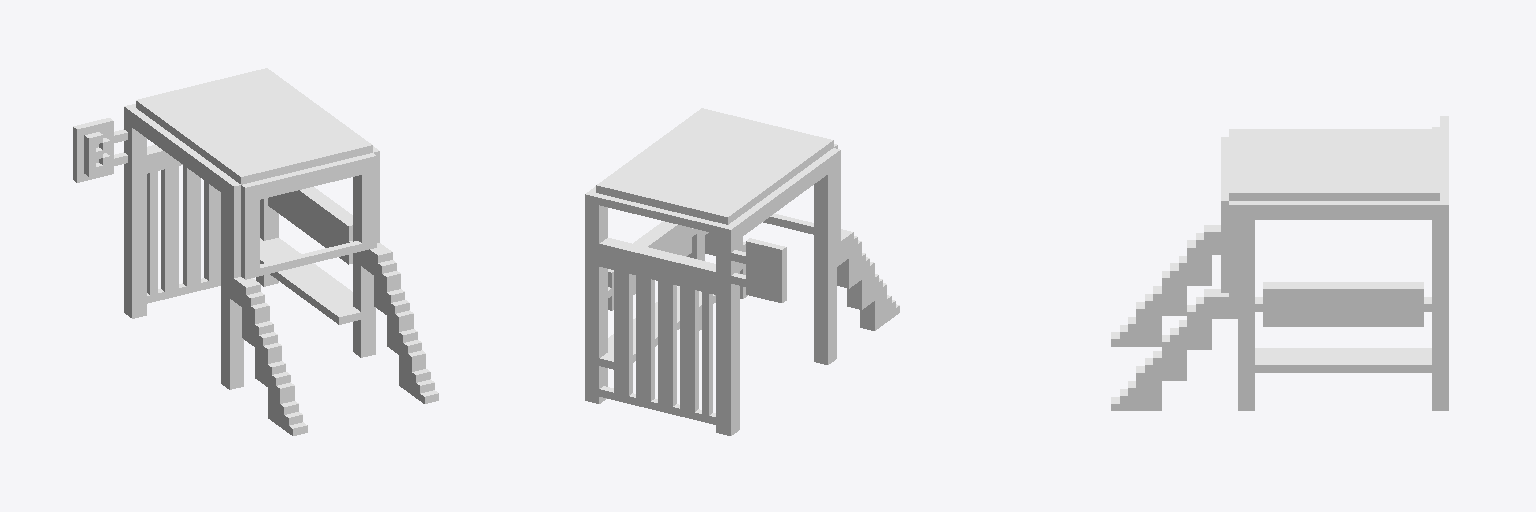
The model's file is BusStation.obj.
3 renders of one model, left to right at view 1: azimuth 30°, elevation 25°; view 2: azimuth 150°, elevation 25°; view 3: azimuth 270°, elevation 25°, orthographic.
Visible parts, largest first — view 1: object 1; view 2: object 1; view 3: object 1.
Part boxes in pixels (x1,y1,x2,y2): object 1: (73, 68, 438, 435); object 1: (585, 108, 899, 435); object 1: (1111, 116, 1448, 410).
Bounding box in the file's own units: 2.7 × 2.8 × 4.